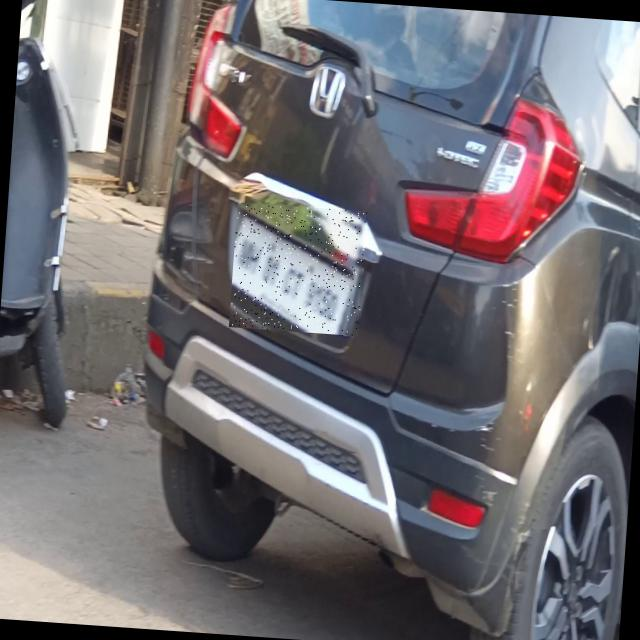Plate: (230, 203, 368, 337)
